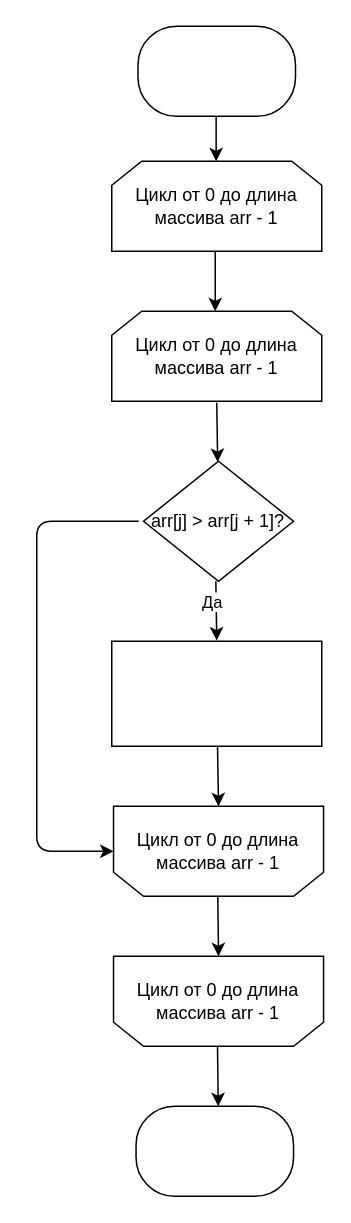
This 351x1223 diagram has some shape labels left out. The shapes that lost their labels are listed below. From the top down, each one's box as (x1, y1, x2, y2) in pixels, then its label:
(136, 25, 296, 116): Начало
(110, 640, 322, 746): arr[j], arr[j + 1] = arr[j + 1], arr[j]
(135, 1105, 294, 1196): Конец
